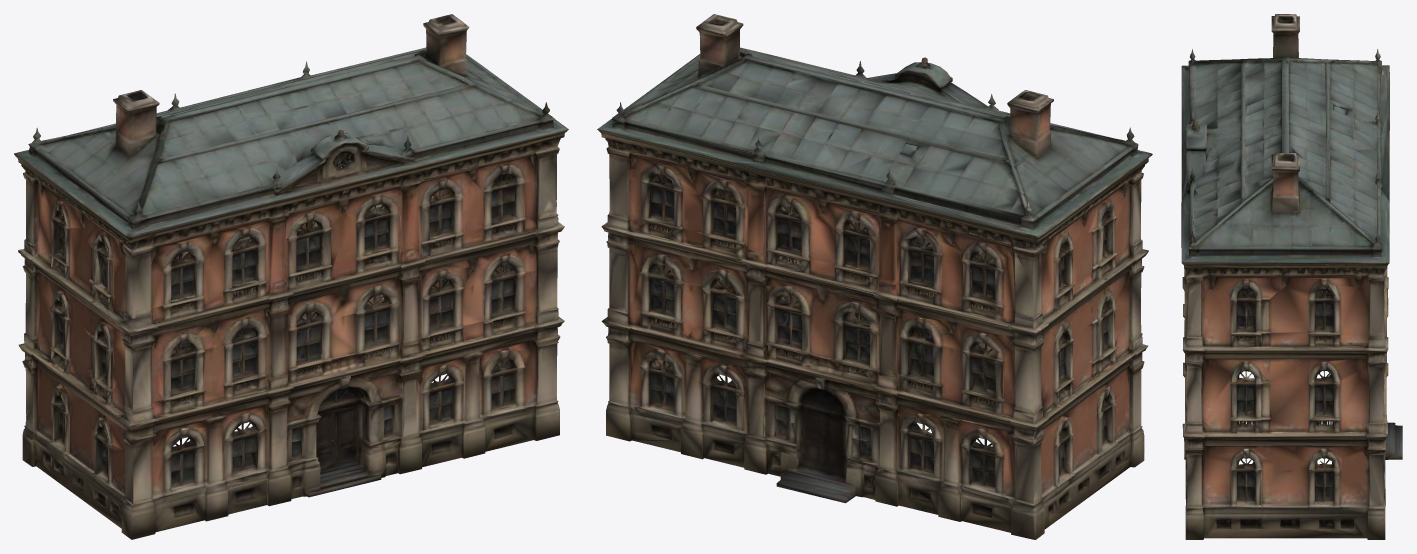
The model's file is old_municipal_archive_web.glb.
The picture shows the model from 3 angles, left to right: view 1: azimuth 30°, elevation 25°; view 2: azimuth 150°, elevation 25°; view 3: azimuth 270°, elevation 25°; orthographic projection. The views are drawn at different scales.
Visible parts, largest first — view 1: old_municipal_archive; view 2: old_municipal_archive; view 3: old_municipal_archive.
Boxes of the visible parts, x1=… form: old_municipal_archive: x1=14, y1=14, x2=568, y2=539; old_municipal_archive: x1=597, y1=14, x2=1152, y2=539; old_municipal_archive: x1=1181, y1=14, x2=1402, y2=539.
Bounding box in the file's own units: 19 × 16.01 × 9.
1 material, 1 textured.
